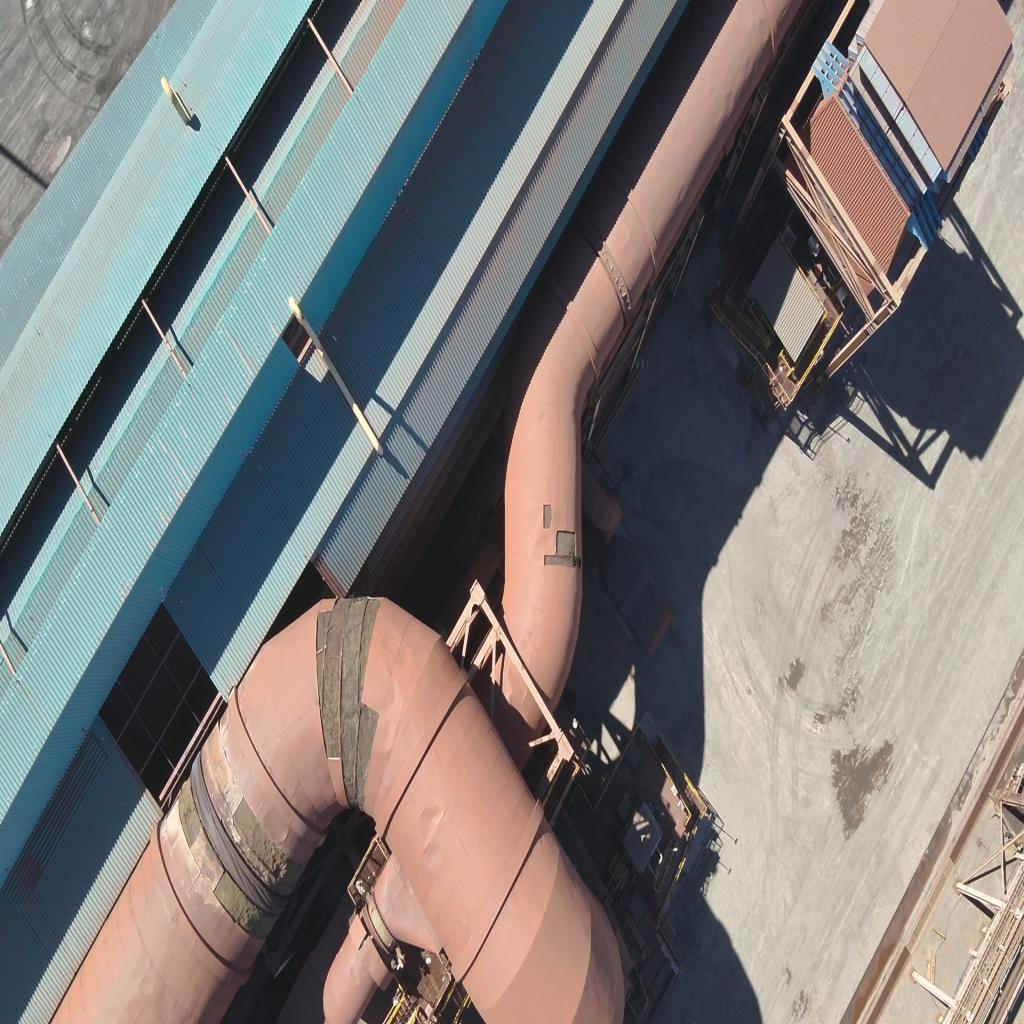Failures: (315, 600, 383, 792), (236, 802, 300, 878), (216, 879, 276, 937), (545, 524, 580, 574), (176, 780, 201, 846), (539, 502, 553, 536)
